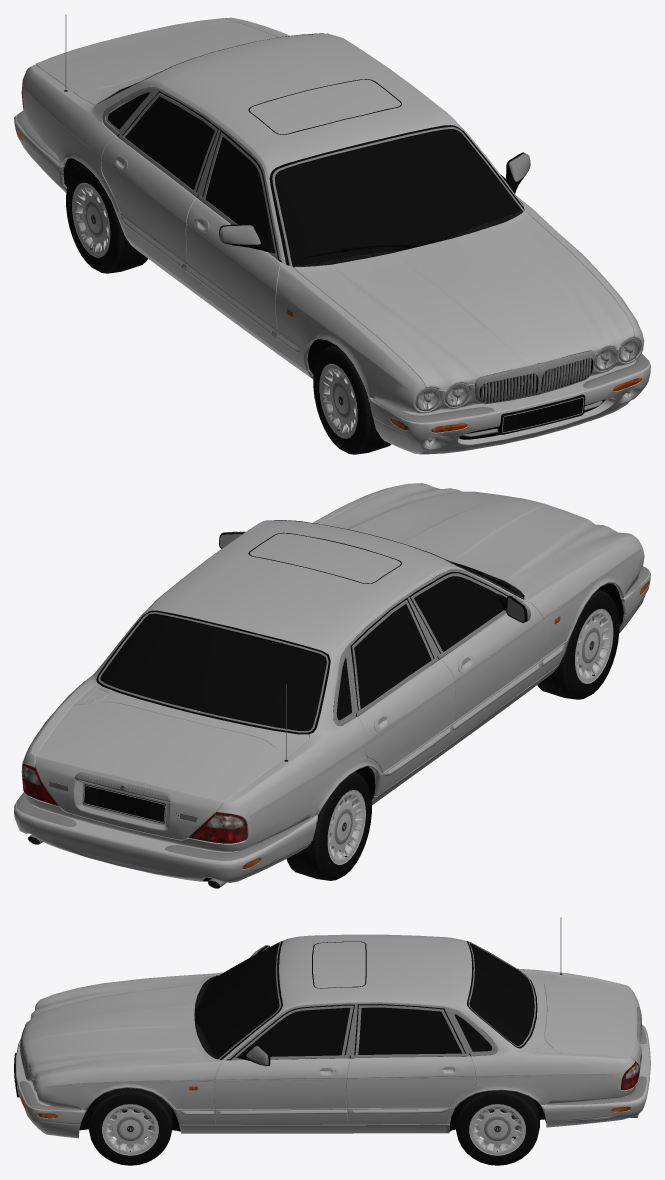
The model's file is car.glb.
3 renders of one model, top to bottom at view 1: azimuth 30°, elevation 25°; view 2: azimuth 150°, elevation 25°; view 3: azimuth 270°, elevation 25°, orthographic. The views are drawn at different scales.
Visible parts, largest first — view 1: DaimlerV8_Body_50, DaimlerV8_Wheel_RF_57, DaimlerV8_Wheel_RR_58; view 2: DaimlerV8_Body_50, DaimlerV8_Wheel_RR_58, DaimlerV8_Wheel_RF_57; view 3: DaimlerV8_Body_50, DaimlerV8_Wheel_LF_55, DaimlerV8_Wheel_LR_56.
Boxes of the visible parts, <box> form: DaimlerV8_Body_50: <box>14,14,650,454</box>; DaimlerV8_Wheel_RF_57: <box>313,344,391,454</box>; DaimlerV8_Wheel_RR_58: <box>66,165,147,273</box>; DaimlerV8_Body_50: <box>14,483,650,888</box>; DaimlerV8_Wheel_RR_58: <box>286,772,371,880</box>; DaimlerV8_Wheel_RF_57: <box>537,589,619,699</box>; DaimlerV8_Body_50: <box>14,917,650,1138</box>; DaimlerV8_Wheel_LF_55: <box>88,1088,172,1165</box>; DaimlerV8_Wheel_LR_56: <box>455,1090,539,1165</box>.
Size of the model in its own units: 2.13 by 1.46 by 5.12.
15 materials, 5 textured.
